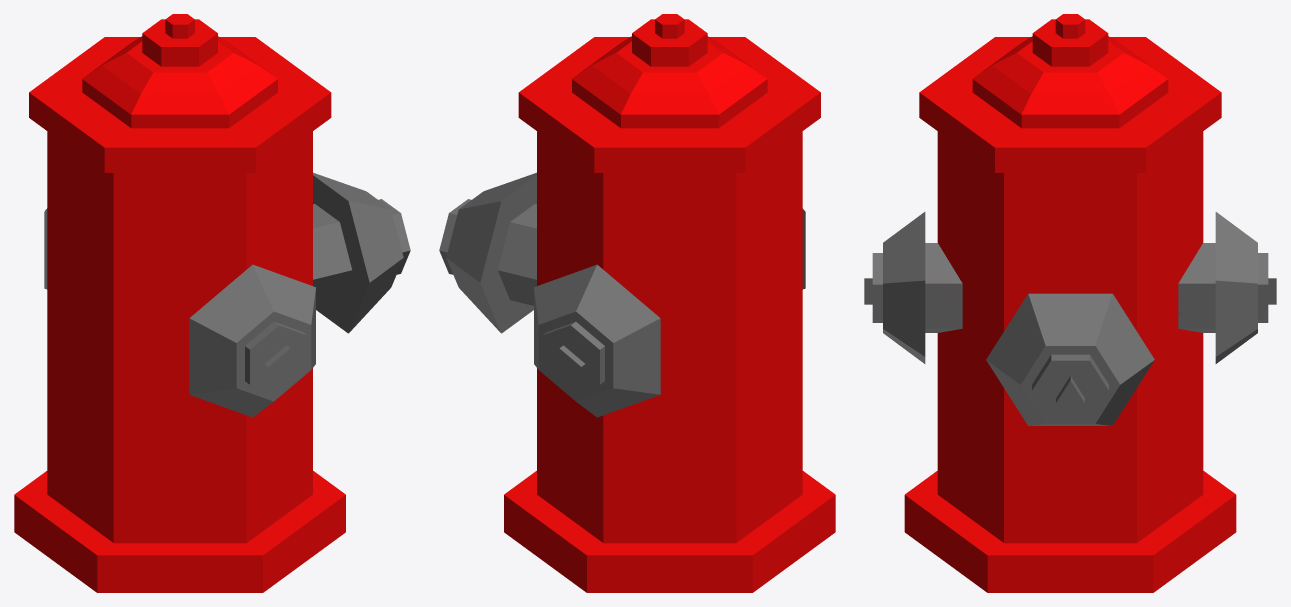
Rendered from FireHydrant.fbx.
3 renders of one model, left to right at view 1: azimuth 30°, elevation 25°; view 2: azimuth 150°, elevation 25°; view 3: azimuth 270°, elevation 25°, orthographic.
Parts seen in each view (by area): view 1: Cylinder.005; view 2: Cylinder.005; view 3: Cylinder.005.
Part boxes in pixels (<box>): Cylinder.005: <box>14,14,410,592</box>; Cylinder.005: <box>439,14,835,592</box>; Cylinder.005: <box>864,14,1276,592</box>.
Size of the model in its own units: 241 by 341 by 249.
